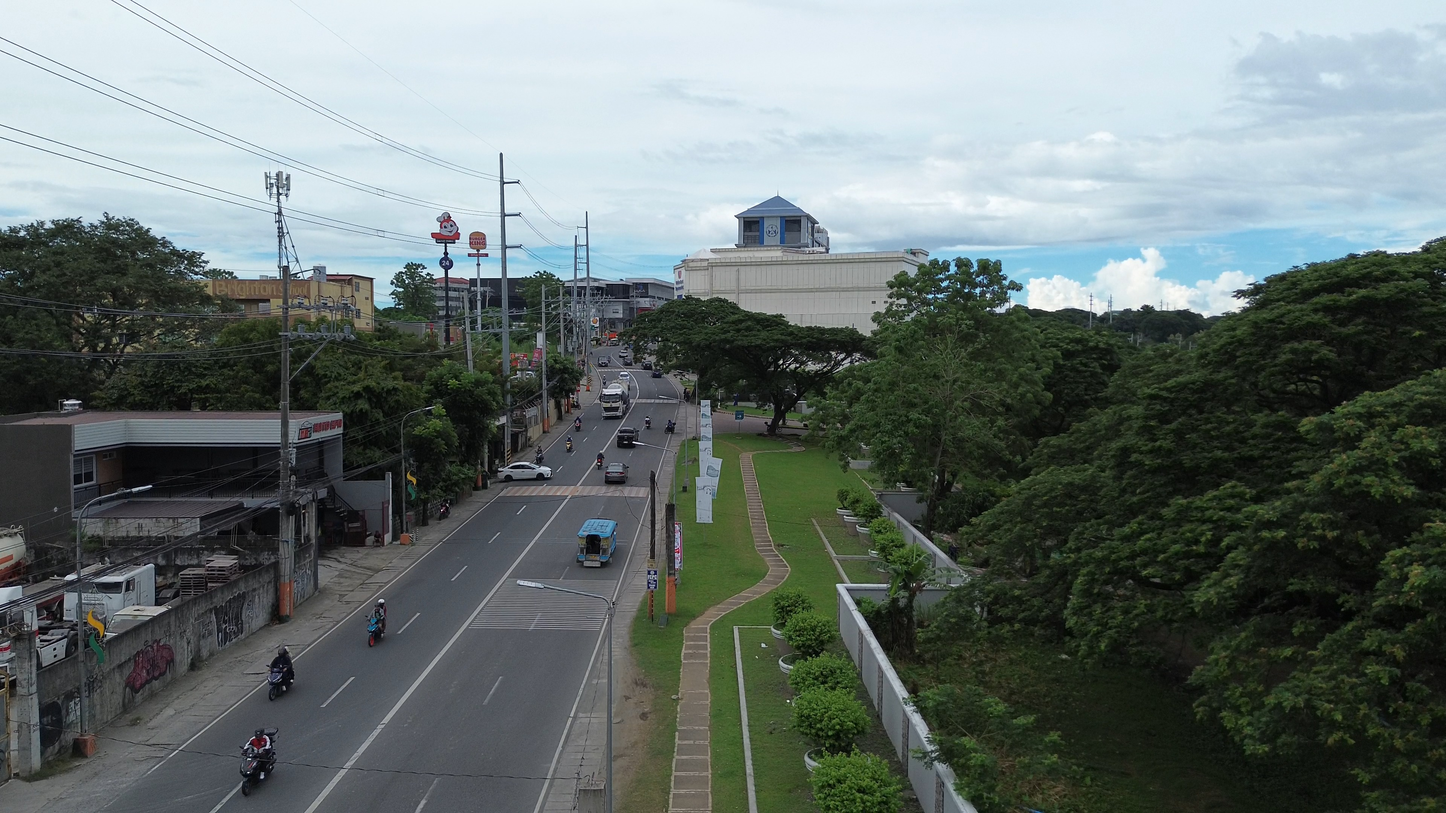car: (498, 461, 552, 481), (604, 463, 628, 483), (641, 360, 653, 370), (651, 368, 663, 378), (598, 357, 610, 367), (618, 370, 631, 379)
motorcycle: (241, 728, 278, 795), (268, 666, 292, 700), (368, 615, 384, 646), (438, 500, 451, 519), (595, 454, 604, 469), (665, 420, 675, 433), (565, 438, 573, 453), (575, 417, 582, 432), (645, 416, 651, 429)
vehicle: (84, 564, 155, 618), (106, 605, 169, 639), (577, 519, 617, 567), (0, 526, 26, 582), (599, 378, 632, 419), (616, 427, 638, 448), (438, 499, 451, 519), (664, 420, 676, 434), (595, 452, 604, 469), (598, 356, 610, 367), (565, 437, 573, 453), (574, 416, 582, 431), (618, 370, 631, 379)
